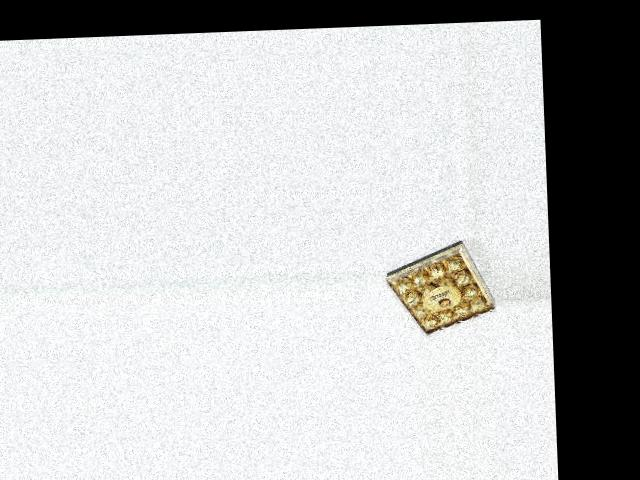chocolate: (382, 237, 498, 339)
